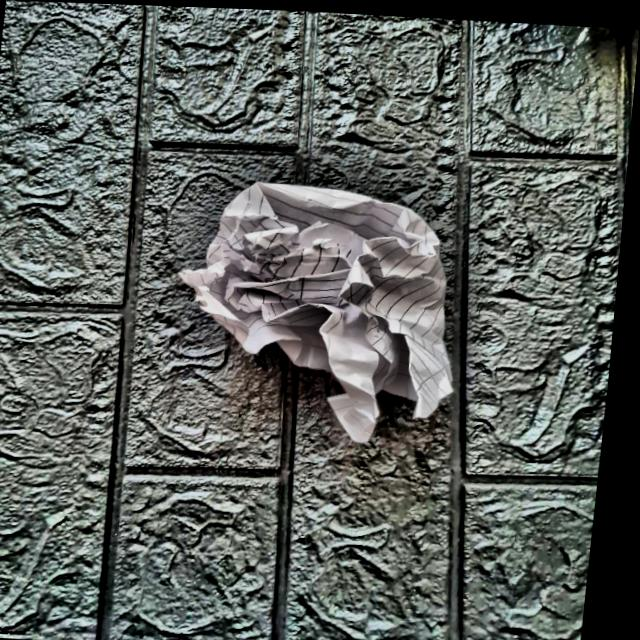Paper: (149, 170, 490, 418)
